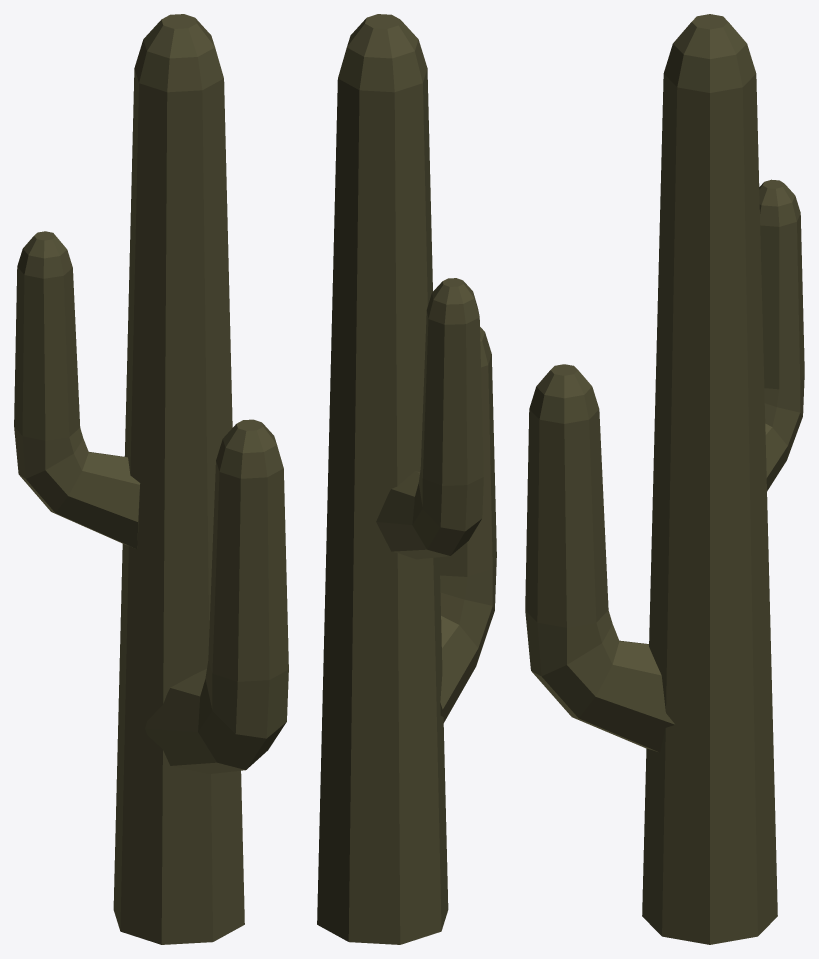
The model's file is cactus.glb.
The picture shows the model from 3 angles, left to right: view 1: azimuth 30°, elevation 25°; view 2: azimuth 150°, elevation 25°; view 3: azimuth 270°, elevation 25°; orthographic projection.
Parts seen in each view (by area): view 1: Cylinder; view 2: Cylinder; view 3: Cylinder.
Boxes of the visible parts, left/top/right/bottom form: Cylinder: left=14, top=14, right=288, bottom=944; Cylinder: left=317, top=14, right=496, bottom=944; Cylinder: left=525, top=14, right=804, bottom=944.
Size of the model in its own units: 0.6633 by 3.02 by 0.8565.
1 material, 1 textured.
